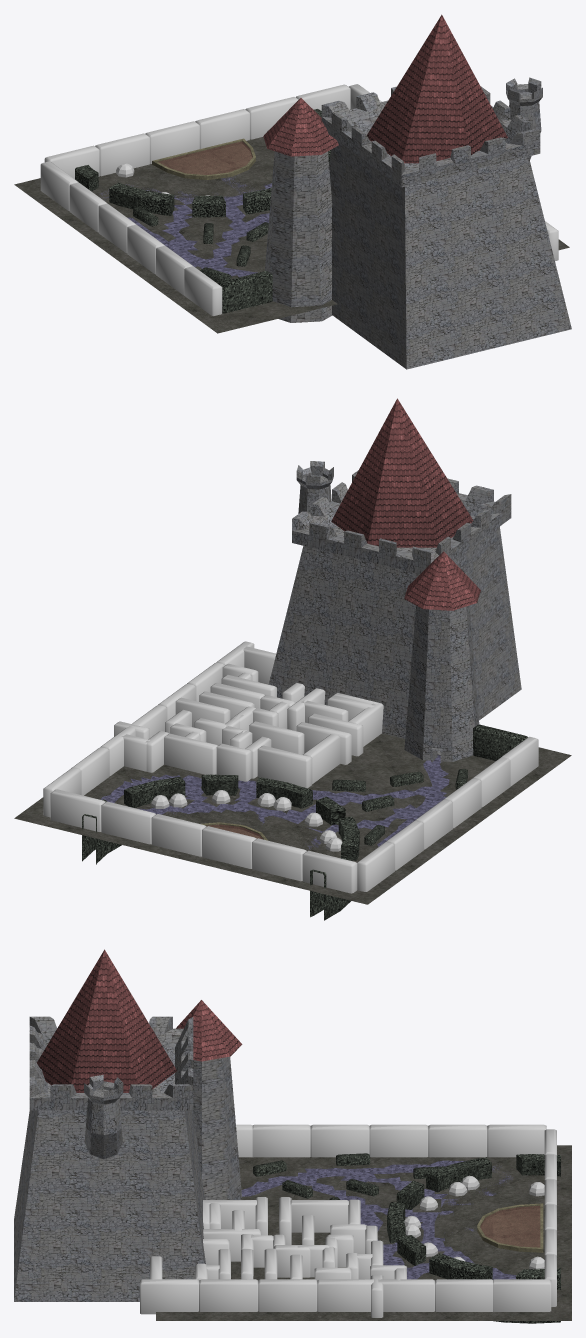
File: castle_inside_scene_lvl_1_garden.fbx
3 views of the same model, one above another, from view 1: azimuth 30°, elevation 25°; view 2: azimuth 150°, elevation 25°; view 3: azimuth 270°, elevation 25° (orthographic). The views are drawn at different scales.
Parts seen in each view (by area): view 1: Cube.028, Grid, Circle.005, Cone.025, Cylinder, Cube.002, Cube.003, bush, bush.007, bush.010, bush.009, Circle.006 (+9 smaller); view 2: Cube.028, Grid, Circle.005, Cone.025, Cylinder, bush.040, bush.008, bush.026, bush.007, bush.011, bush.010, bush.012 (+25 smaller); view 3: Cube.028, Grid, Cone.025, Circle.005, Cylinder, Circle.006, Cube.002, Cube.003, bush.004, bush.005, bush.002, bush.020 (+21 smaller).
Boxes of the visible parts, x1,y1,x2,y2 form: Cube.028: (321,86,571,369); Grid: (14,137,569,333); Circle.005: (263,98,338,322); Cone.025: (367,14,507,163); Cylinder: (75,109,331,217); Cube.002: (152,138,255,179); Cube.003: (158,141,252,174); bush: (217,271,272,313); bush.007: (95,133,149,176); bush.010: (195,109,249,148); bush.009: (145,121,199,163); Circle.006: (506,77,542,160); Cube.028: (268,470,521,738); Grid: (14,682,571,904); Circle.005: (404,551,480,761); Cone.025: (331,398,473,547); Cylinder: (82,774,359,920); bush.040: (257,745,312,788); bush.008: (302,850,357,893); bush.026: (164,733,217,774); bush.007: (252,838,306,881); bush.011: (101,801,155,844); bush.010: (151,814,206,856); bush.012: (50,789,105,831); Cube.028: (14,1016,205,1301); Grid: (156,1145,571,1320); Cone.025: (37,949,176,1092); Circle.005: (176,1000,242,1199); Cylinder: (387,1154,560,1323); Circle.006: (84,1074,123,1159); Cube.002: (477,1203,543,1252); Cube.003: (480,1205,540,1247); bush.004: (428,1124,487,1157); bush.005: (369,1124,428,1157); bush.002: (252,1124,310,1157); bush.020: (140,1279,199,1314).
Size of the model in its own units: 3862 by 3357 by 5180.
